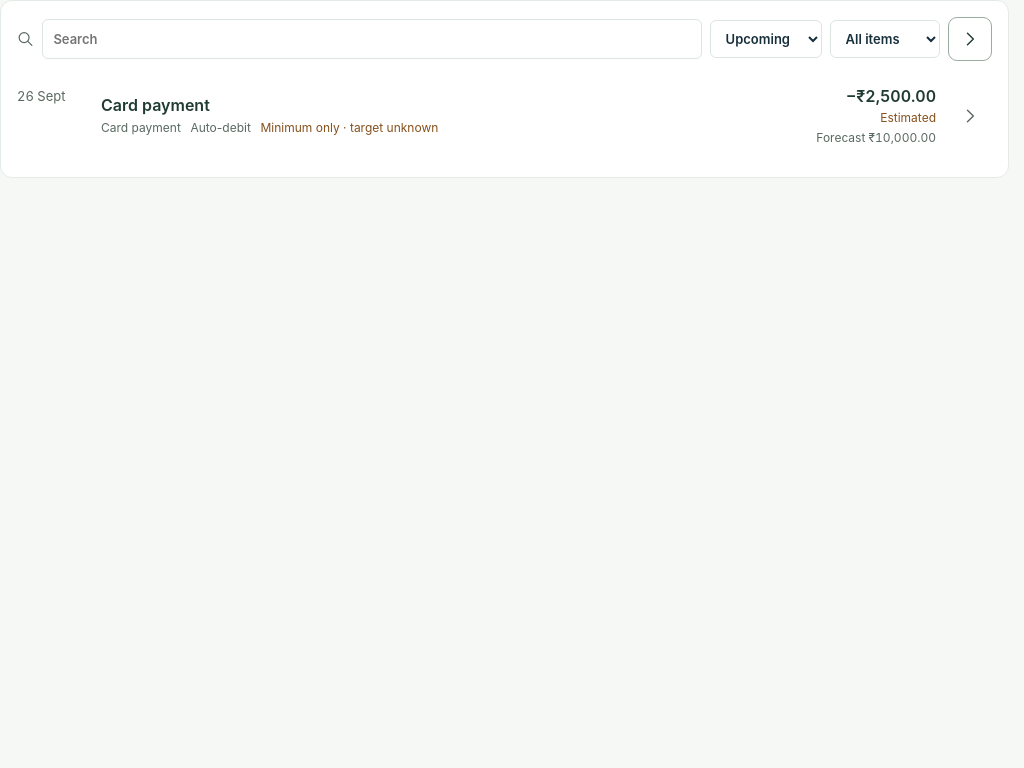
Test: keeps requiredOnly visible without replacing the reported target or hiding its full qualification
expect the heading "Card payment" is shown: met, box [101, 95, 210, 115]
expect the text "Auto-debit" is shown: met, box [190, 120, 251, 138]
Click the button named "Details for Card payment on 26 Sept 2026": (970,116) [948, 94, 992, 138]
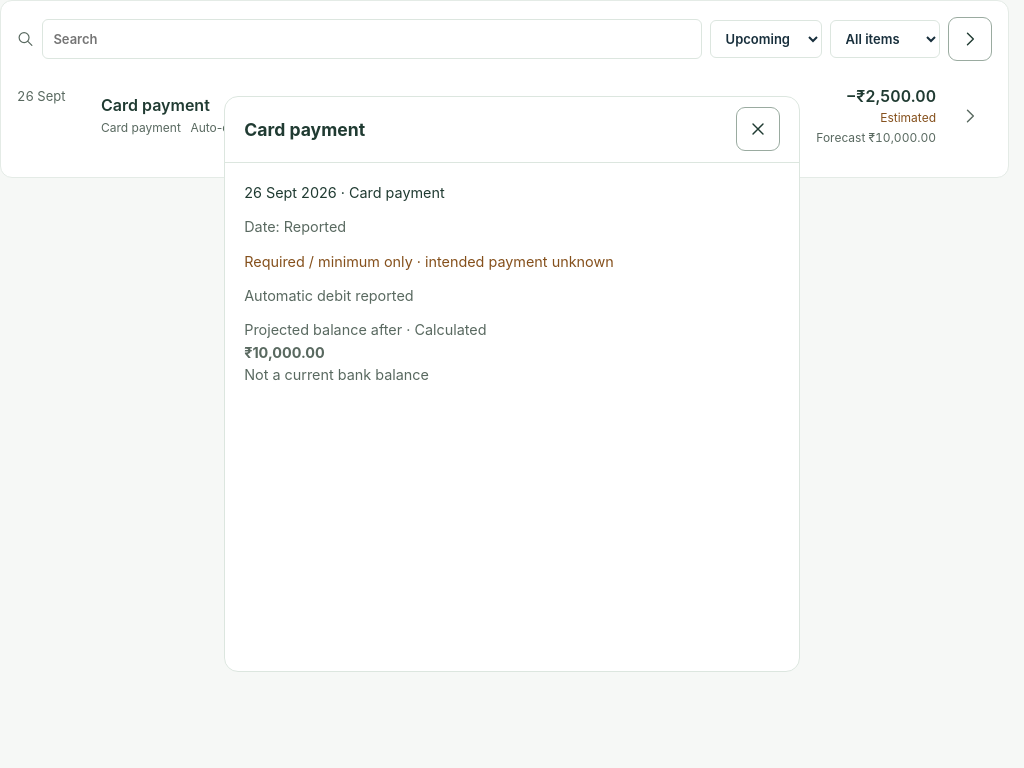
expect the text "Required / minimum only · intended payment unknown" is shown: met, box [244, 253, 614, 270]
